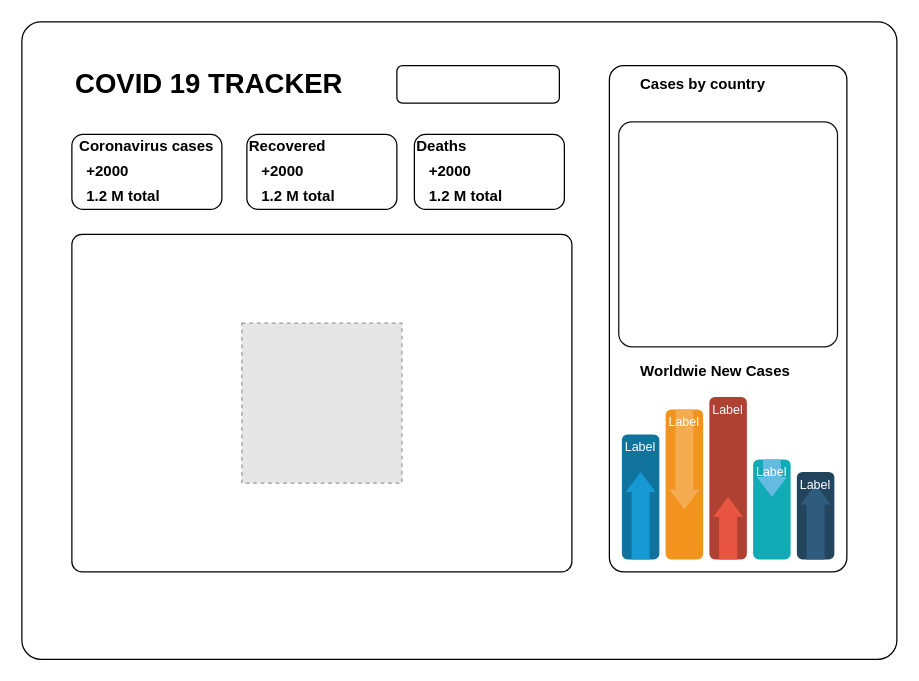
The diagram is 919 pixels wide and 681 high, and some of its shapes have lost their labels. Grey dashed boxes stand in for pictures. The shapes that lost their labels are listed below. From the top down, each one's centre as x and y in pixels, then its label:
the point at 477,83: Worldwide
the point at 728,234: Value 1 Value 2 Value 3 Value 4 Value 5 Value 6 Value 7 Value 8 Value 9
